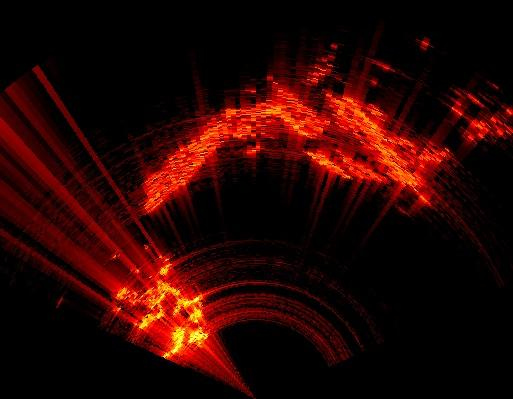shipwreck: (144, 91, 328, 212), (307, 96, 446, 192), (116, 259, 207, 357)
